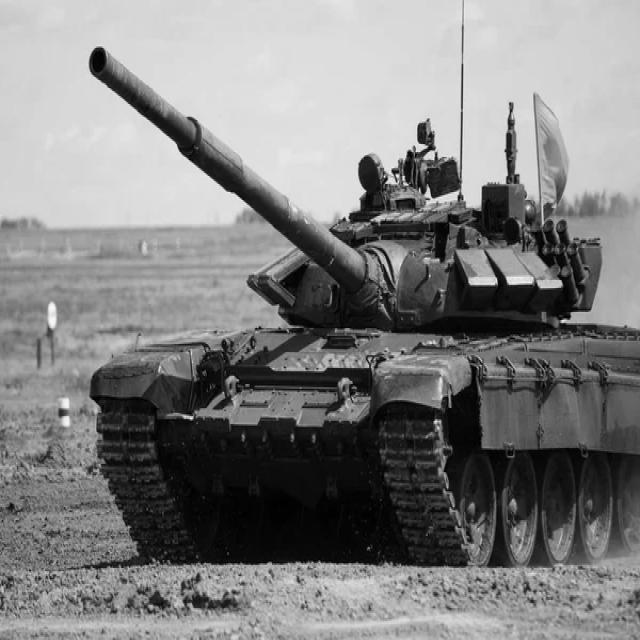Tank: (86, 42, 640, 564)
